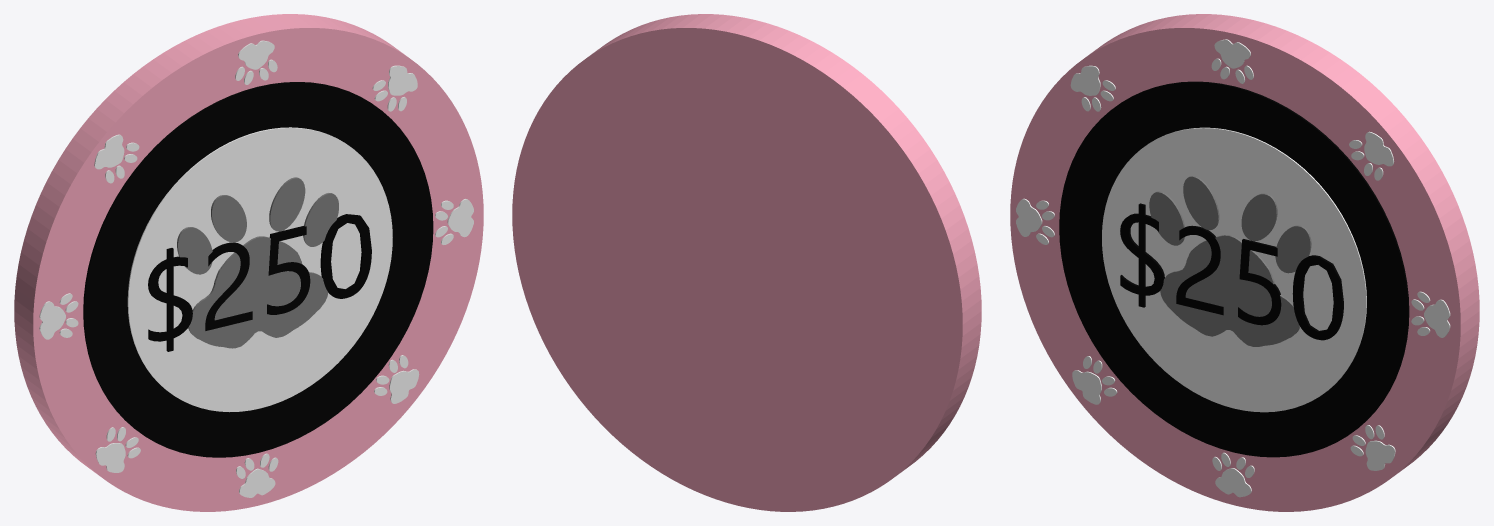
The model's file is Pink paw chip.fbx.
The picture shows the model from 3 angles, left to right: view 1: azimuth 30°, elevation 25°; view 2: azimuth 150°, elevation 25°; view 3: azimuth 330°, elevation 25°; orthographic projection.
Visible parts, largest first — view 1: root (×2), node_id4, node_id258, node_id292, node_id260, node_id215, node_id220, node_id242, node_id161, node_id192, node_id226, node_id231 (+1 smaller); view 2: node_id4; view 3: root (×2), node_id4, node_id258, node_id292, node_id260, node_id226, node_id231, node_id220, node_id215, node_id192, node_id237, node_id161 (+1 smaller).
Boxes of the visible parts, left/top/right/bottom form: root (×2): left=83, top=82, right=433, bottom=457; node_id4: left=14, top=14, right=483, bottom=511; node_id258: left=188, top=236, right=328, bottom=348; node_id292: left=148, top=214, right=371, bottom=351; node_id260: left=177, top=177, right=338, bottom=274; node_id215: left=94, top=134, right=124, bottom=169; node_id220: left=389, top=369, right=419, bottom=403; node_id242: left=39, top=301, right=65, bottom=339; node_id161: left=239, top=468, right=275, bottom=497; node_id192: left=238, top=40, right=274, bottom=69; node_id226: left=388, top=65, right=417, bottom=95; node_id231: left=95, top=443, right=125, bottom=472; node_id4: left=512, top=14, right=981, bottom=511; root (×2): left=1059, top=81, right=1409, bottom=457; node_id4: left=1010, top=14, right=1479, bottom=511; node_id258: left=1160, top=235, right=1299, bottom=346; node_id292: left=1120, top=203, right=1343, bottom=340; node_id260: left=1149, top=176, right=1311, bottom=273; node_id226: left=1364, top=131, right=1394, bottom=166; node_id231: left=1072, top=370, right=1101, bottom=404; node_id220: left=1365, top=440, right=1395, bottom=470; node_id215: left=1070, top=65, right=1100, bottom=95; node_id192: left=1214, top=39, right=1250, bottom=68; node_id237: left=1424, top=299, right=1450, bottom=337; node_id161: left=1215, top=468, right=1251, bottom=497.
Bounding box in the file's own units: 0.5155 × 0.5155 × 0.0438.
8 materials, 6 textured.
